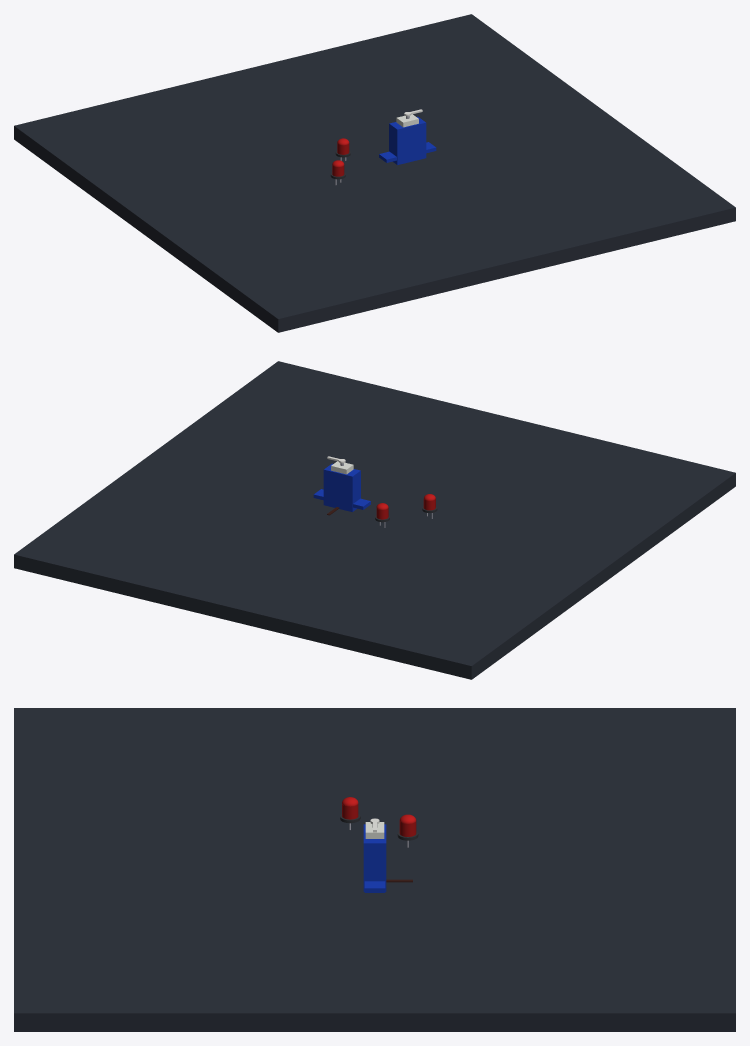
File: virtual.glb
3 views of the same model, one above another, from view 1: azimuth 30°, elevation 25°; view 2: azimuth 150°, elevation 25°; view 3: azimuth 270°, elevation 25° (orthographic). The views are drawn at different scales.
Parts seen in each view (by area): view 1: Floor, ServoBody; view 2: Floor, ServoBody; view 3: Floor, ServoBody.
Boxes of the visible parts, x1,y1,x2,y2 form: Floor: [14, 14, 735, 332]; ServoBody: [389, 116, 426, 164]; Floor: [14, 361, 735, 679]; ServoBody: [323, 463, 360, 511]; Floor: [14, 708, 735, 1031]; ServoBody: [363, 824, 386, 891].
Size of the model in its own units: 3.5 by 0.432 by 3.5.
